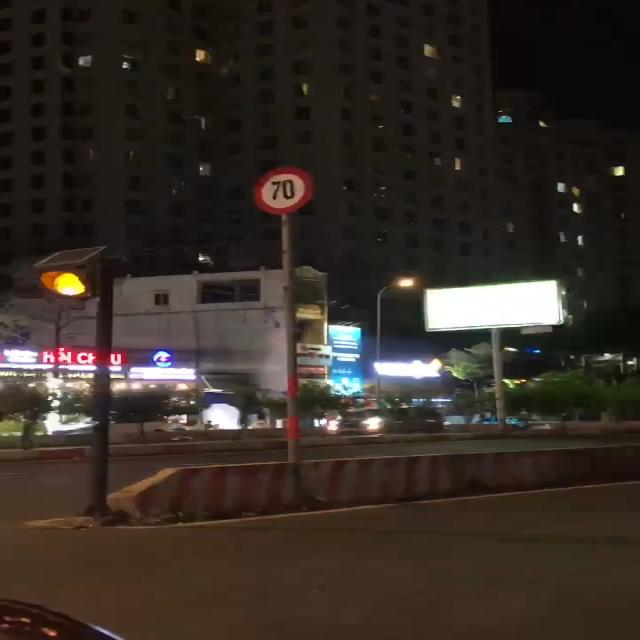Bien bao toc do toi da cho phep: (247, 162, 323, 220)
